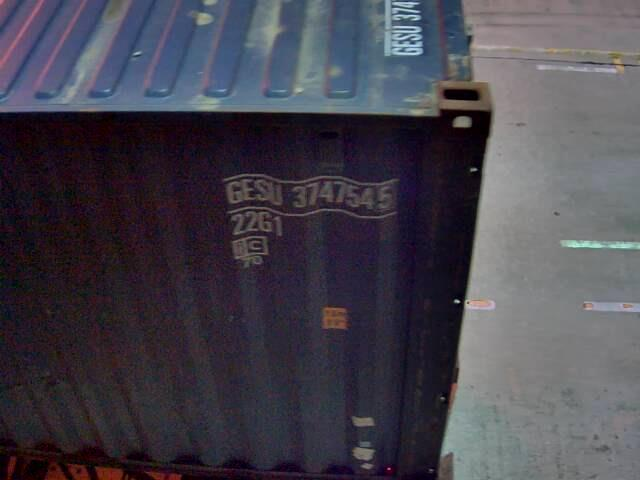container_no_door: (1, 131, 424, 473)
